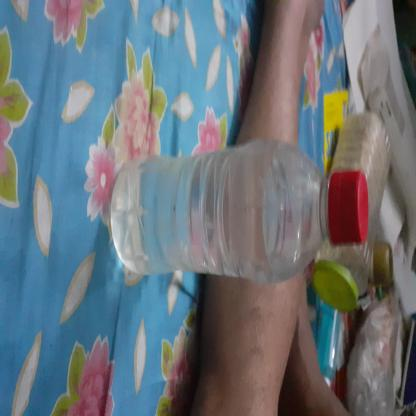bottle: (259, 83, 345, 416)
